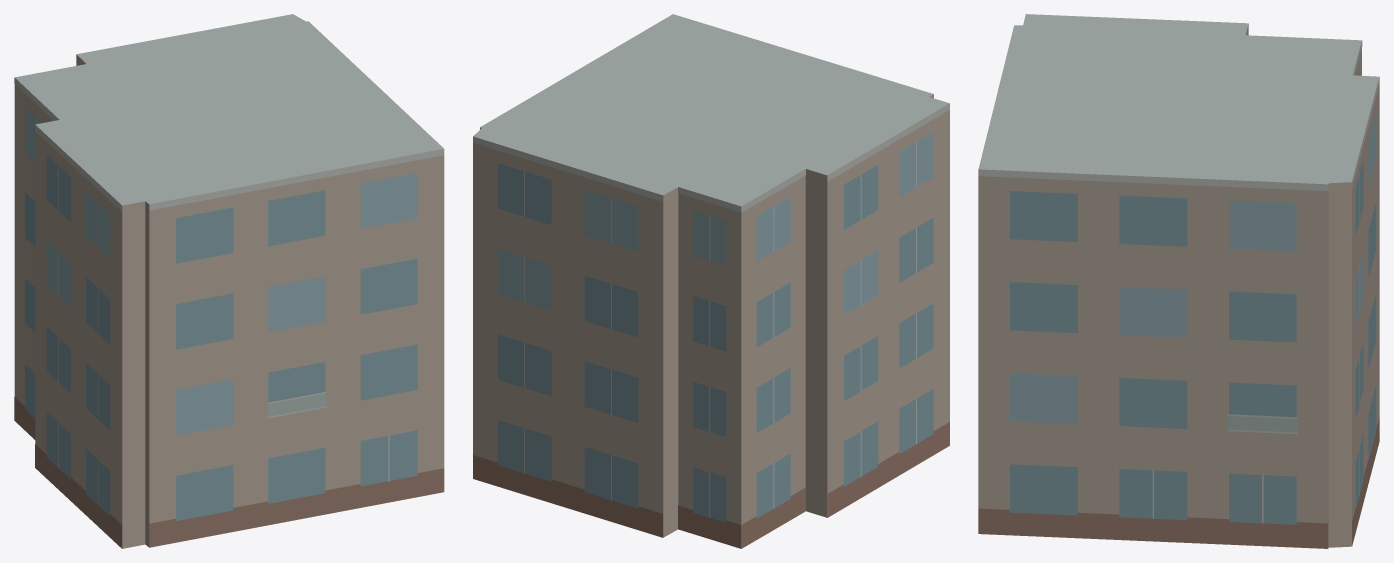
Rendered from survey-upis-32745990.glb.
3 views of the same model, side by side, from view 1: azimuth 30°, elevation 25°; view 2: azimuth 150°, elevation 25°; view 3: azimuth 270°, elevation 25° (orthographic). The views are drawn at different scales.
Visible parts, largest first — view 1: survey-upis-32745990.tmp; view 2: survey-upis-32745990.tmp; view 3: survey-upis-32745990.tmp.
Part boxes in pixels (box(x1,y1,x2,y2)): survey-upis-32745990.tmp: box(14, 14, 444, 548); survey-upis-32745990.tmp: box(473, 14, 949, 548); survey-upis-32745990.tmp: box(978, 14, 1379, 548).
Size of the model in its own units: 13.09 by 13.05 by 13.02.
